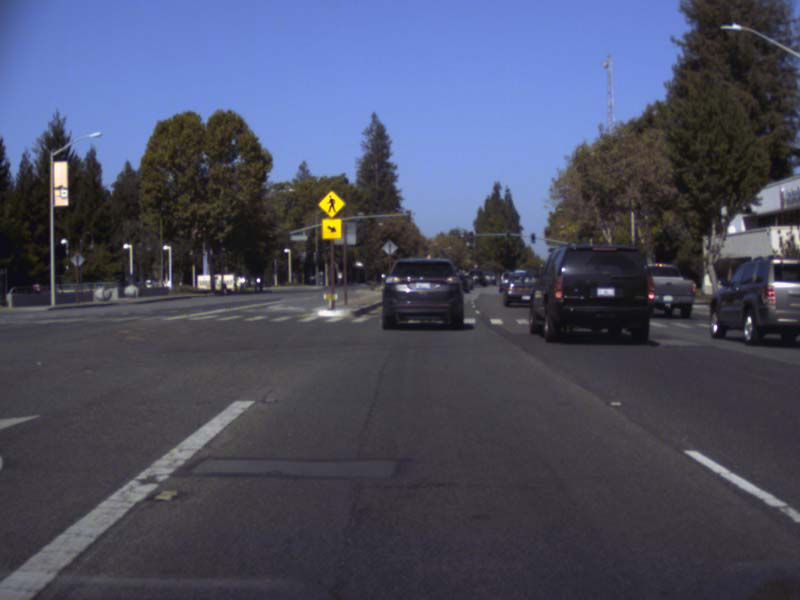Green: (505, 231, 510, 241)
